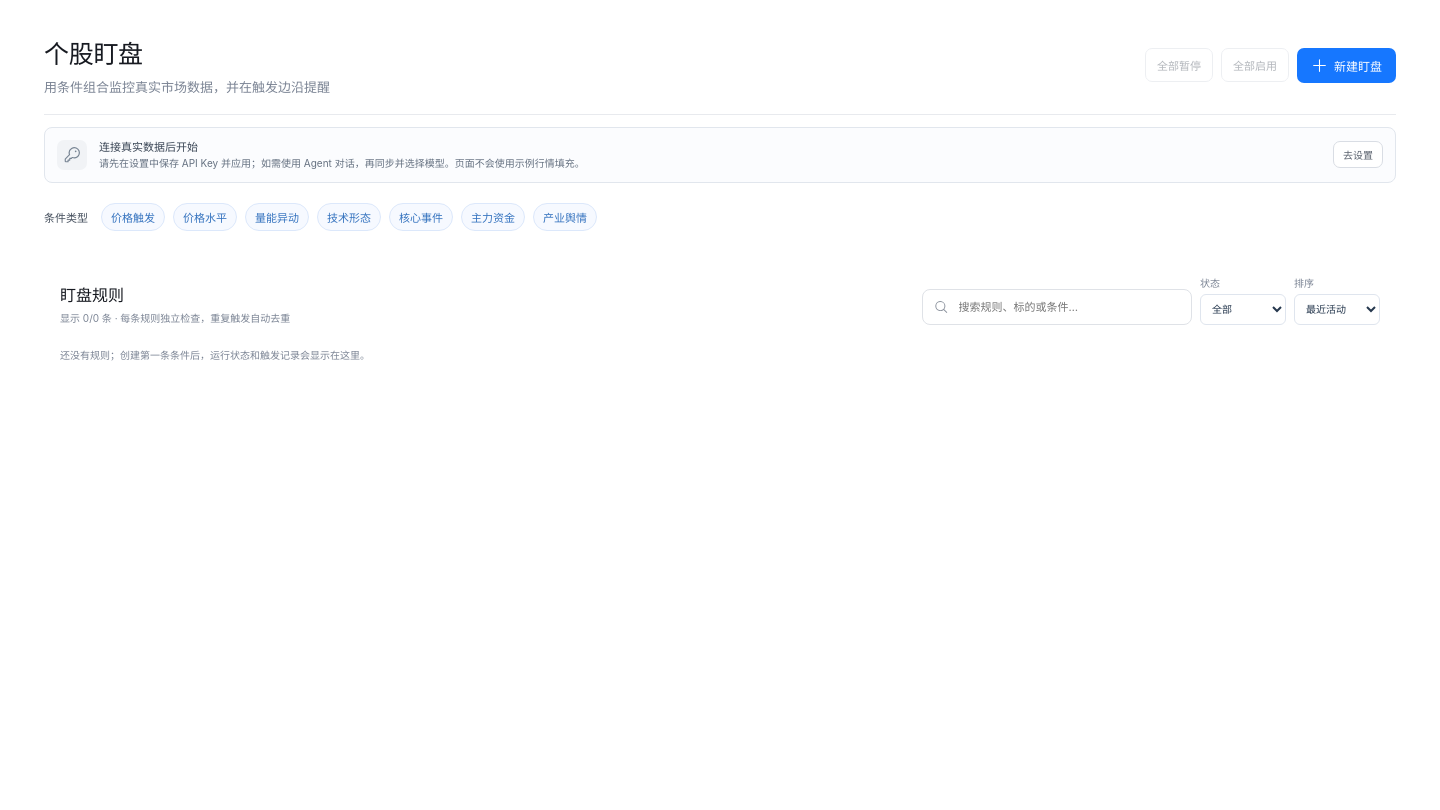
Test: FolioMind core flows › creates a price-level monitor rule with a directional threshold
The image size is (1440, 810).
Click the button "新建盯盘": click(1346, 65) [1297, 48, 1396, 82]
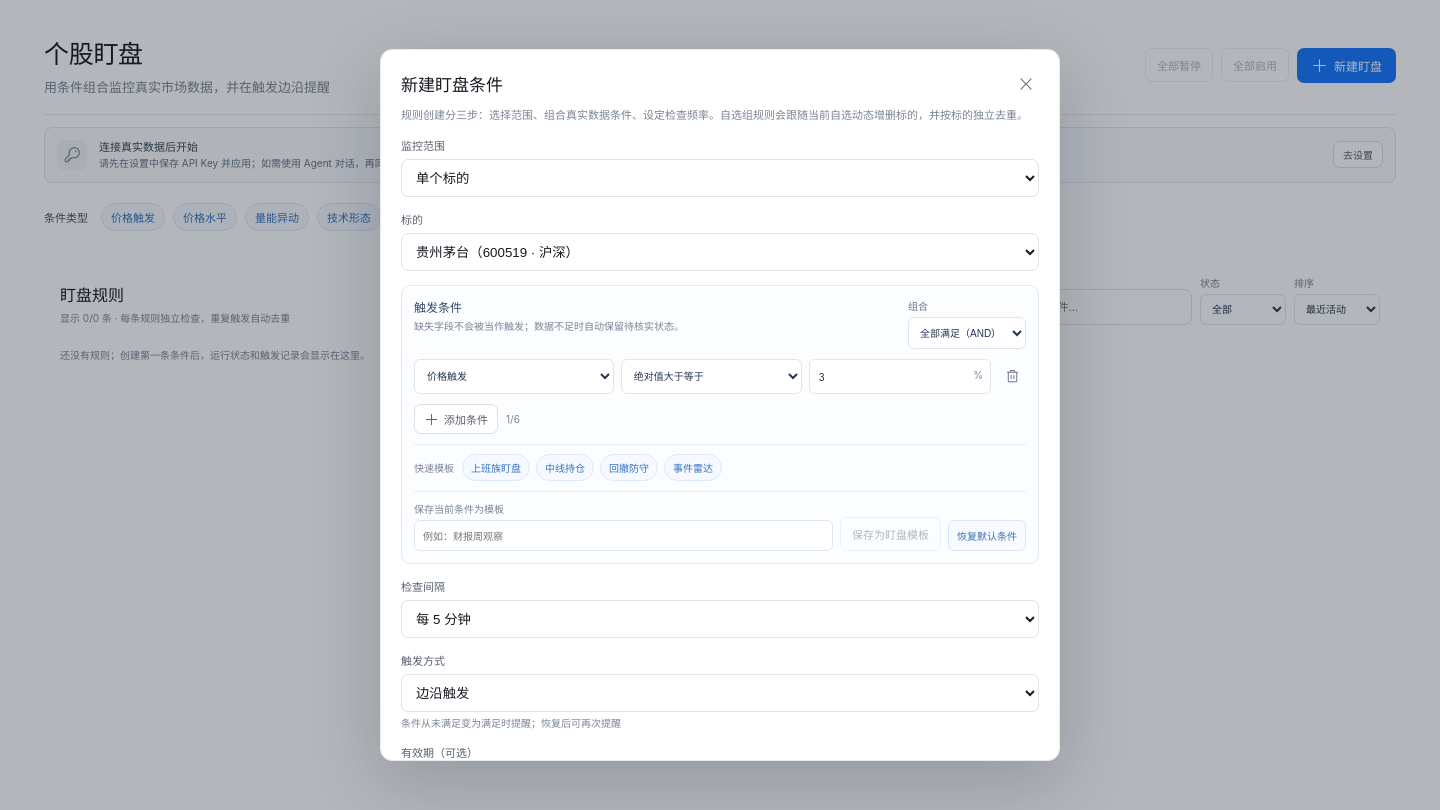
Select "价格水平" in the dropdown named "条件1类型": (514, 377) [414, 359, 614, 394]
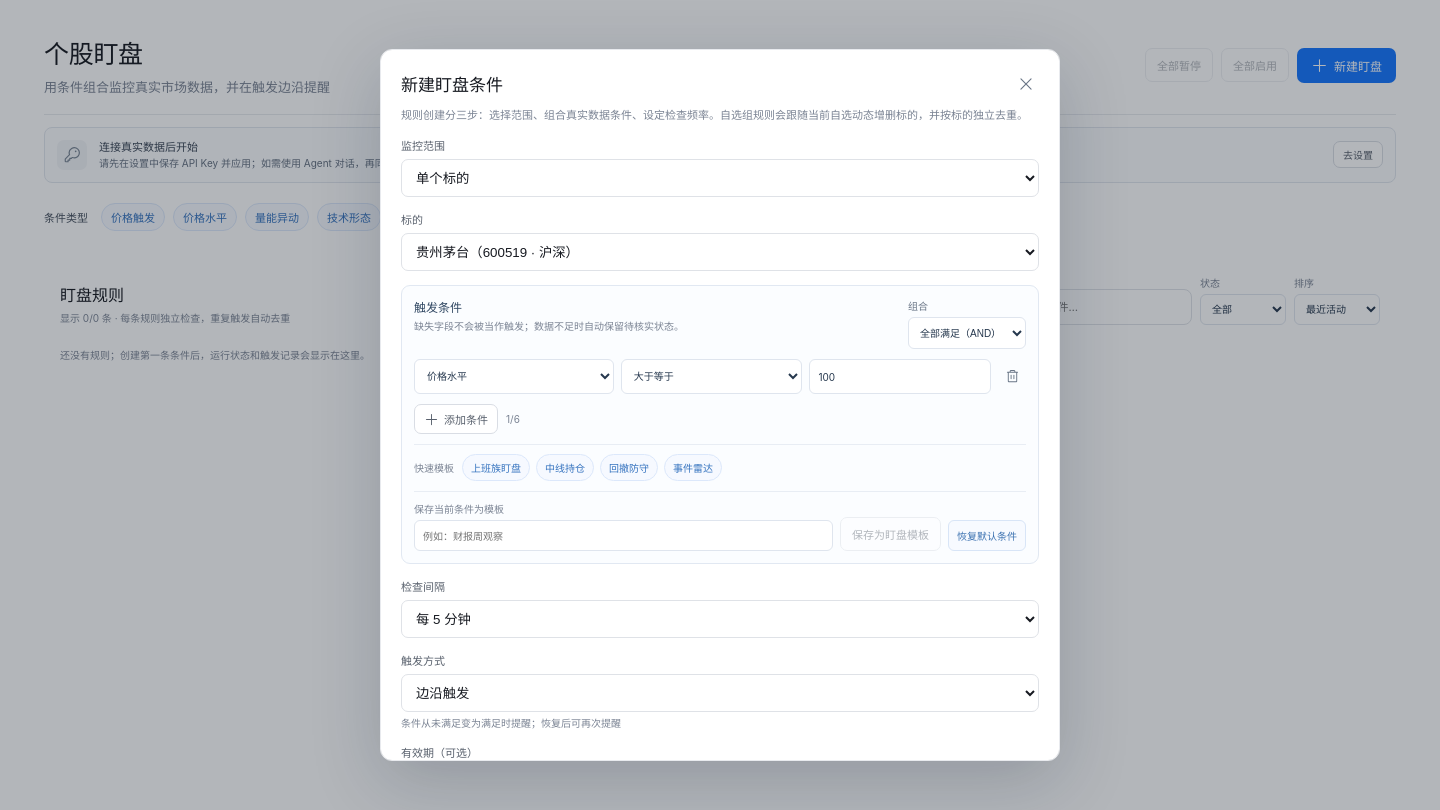
Check: the dropdown named "条件1关系" shows "大于等于", box [621, 359, 802, 394]
Replace the text in the number field named "条件1数值" with "1800": (900, 377) [809, 359, 991, 394]
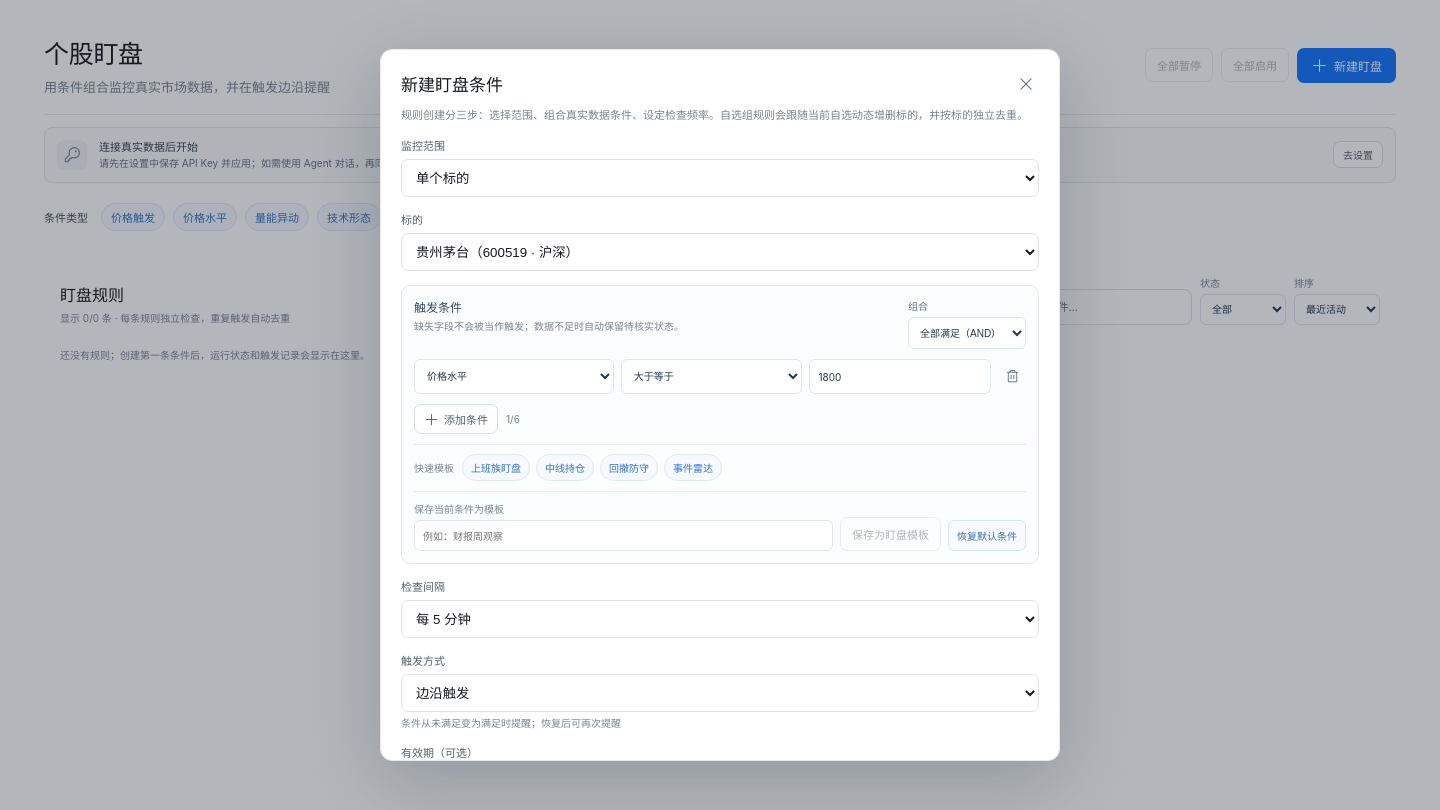
Select "小于等于" in the dropdown named "条件1关系": (712, 377) [621, 359, 802, 394]
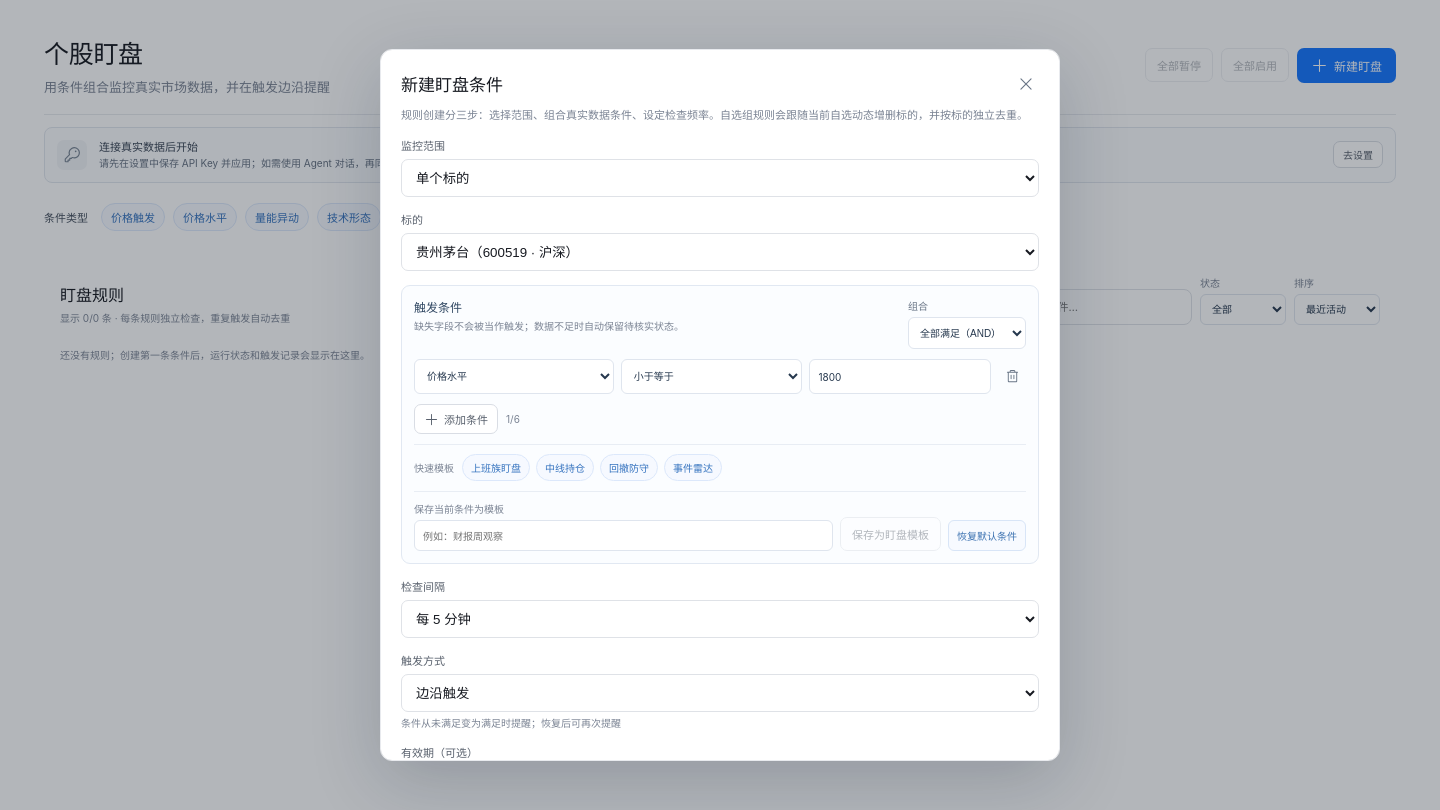
Submit the dialog, box [380, 49, 1060, 761]
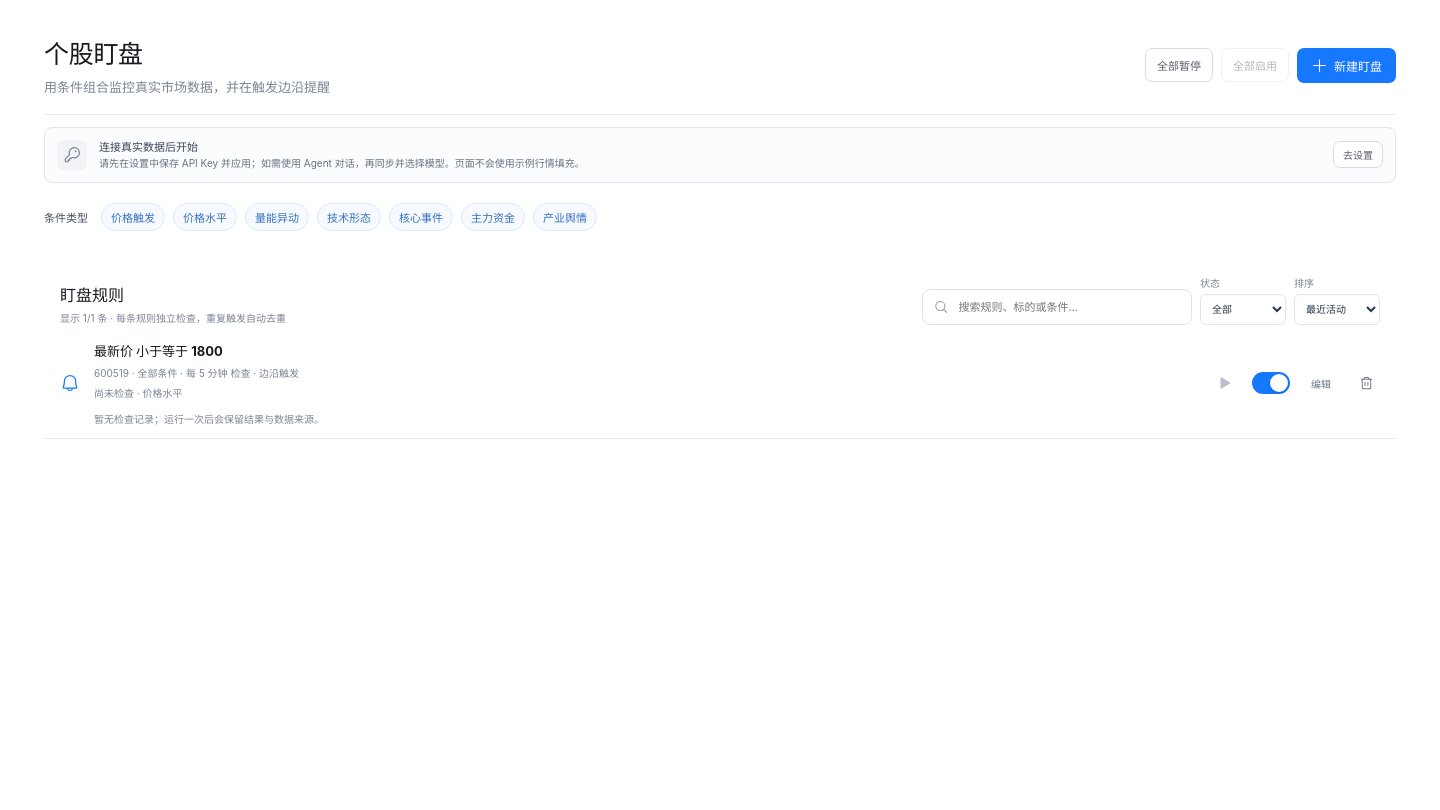
Check: the text "最新价 小于等于 1800" is shown, box [94, 342, 223, 358]
